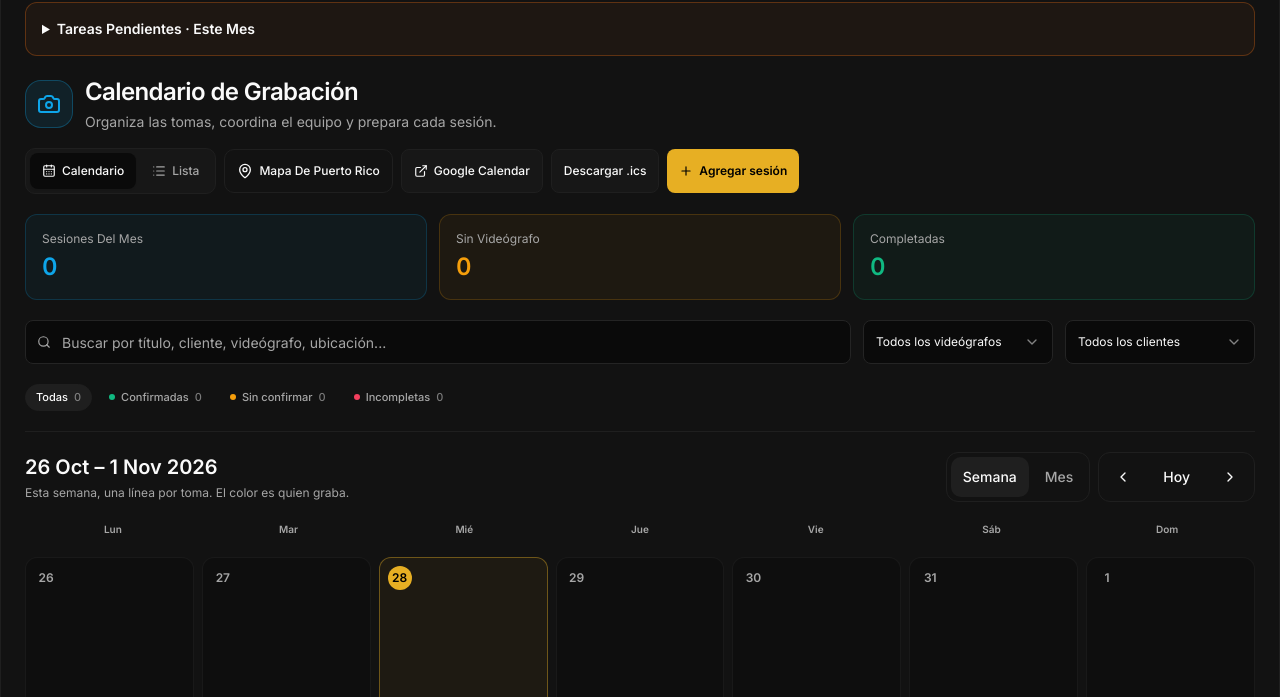
it: el día que pulsas es la fecha de la sesión › al pulsar el número del día abre su lista y no el formulario
Click the button "Mes". click: (1059, 476)
box: [1033,456,1085,496]
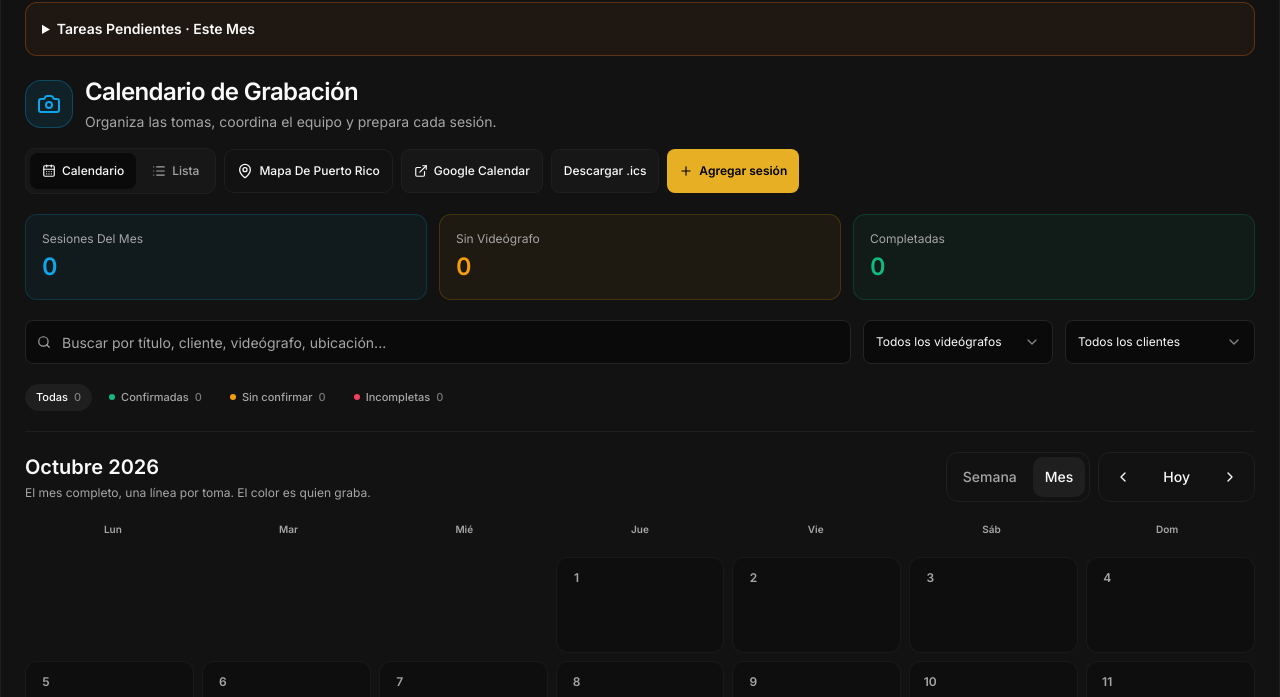
Click the button "7". click: (400, 682)
box: [388,670,412,694]
(page scrolled)
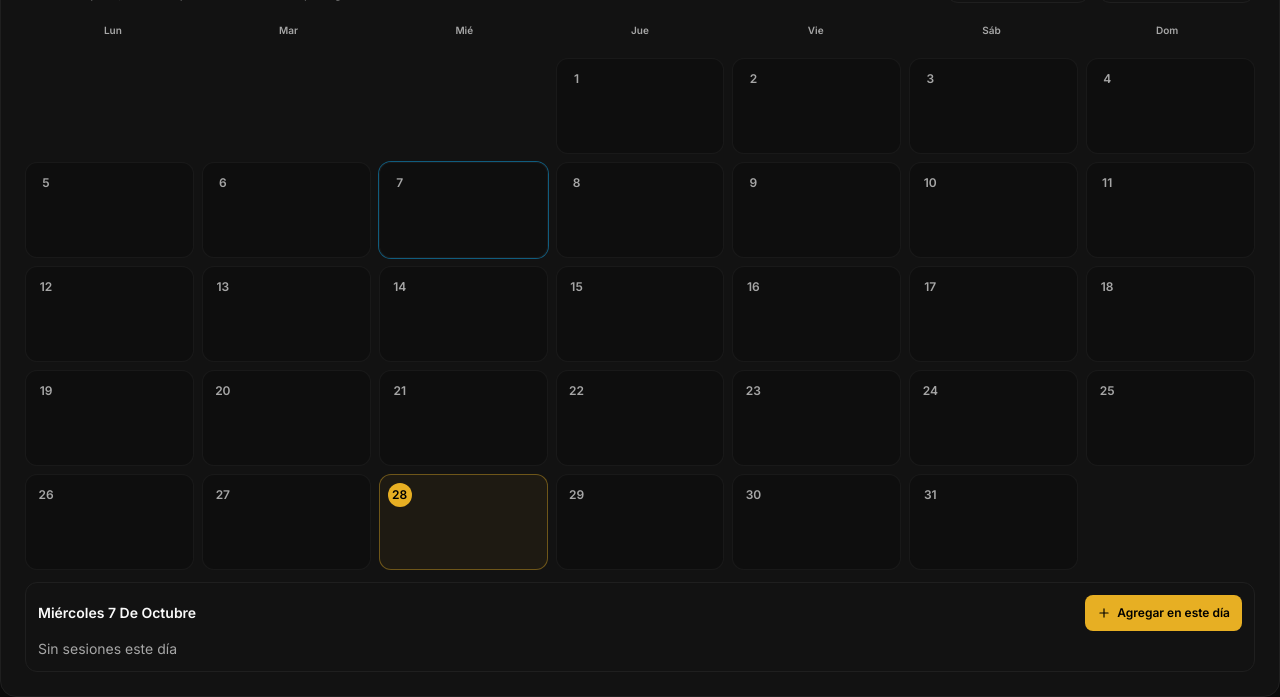
Expected: the element named "sesiones del 7 de" is shown, [25,582,1255,672]
Expected: the text "Sin sesiones este día" is shown, [38,640,177,656]
